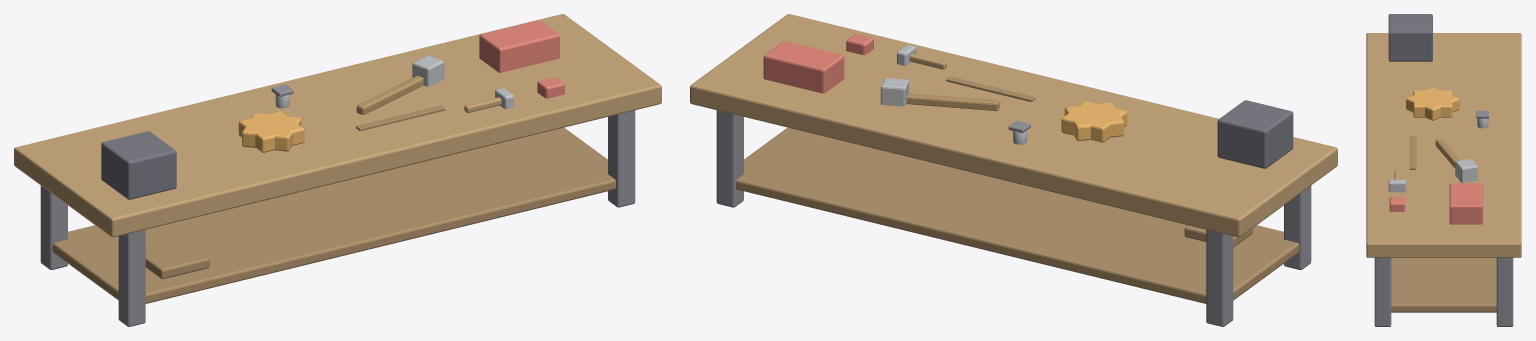
The model's file is верстак.glb.
3 views of the same model, side by side, from view 1: azimuth 30°, elevation 25°; view 2: azimuth 150°, elevation 25°; view 3: azimuth 270°, elevation 25° (orthographic). The views are drawn at different scales.
Visible parts, largest first — view 1: верстак; view 2: верстак; view 3: верстак.
Boxes of the visible parts, x1,y1,x2,y2 form: верстак: (14, 14, 661, 326); верстак: (690, 14, 1337, 326); верстак: (1366, 14, 1521, 326).
Size of the model in its own units: 4.5 by 1.22 by 1.4.
